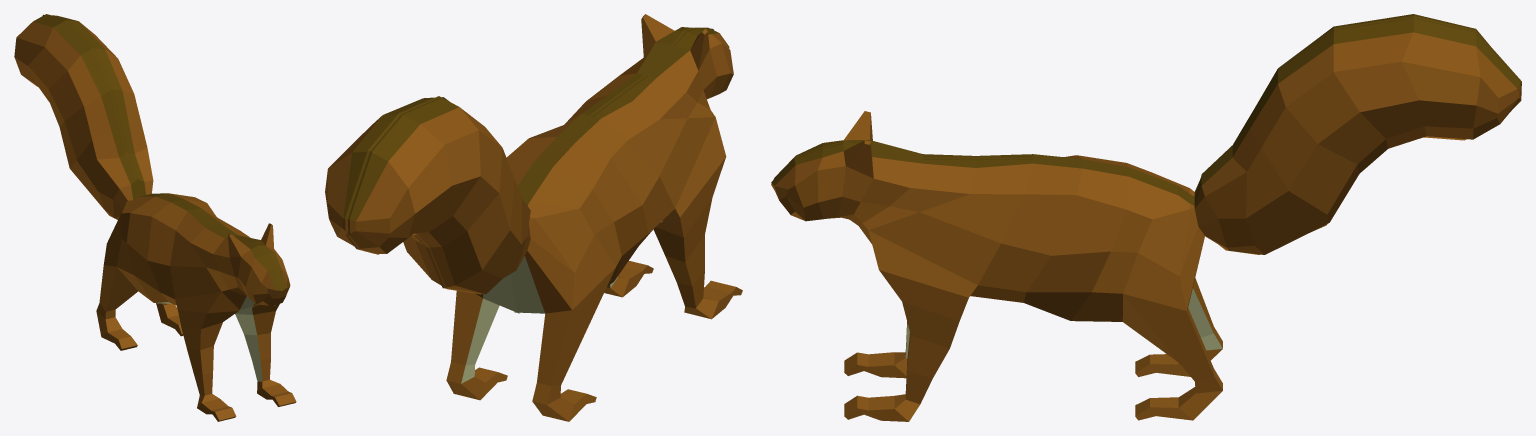
File: squirrel.fbx
The picture shows the model from 3 angles, left to right: view 1: azimuth 30°, elevation 25°; view 2: azimuth 150°, elevation 25°; view 3: azimuth 270°, elevation 25°; orthographic projection. The views are drawn at different scales.
Parts seen in each view (by area): view 1: Plane; view 2: Plane; view 3: Plane.
Boxes of the visible parts, <box> form: Plane: <box>14,14,296,421</box>; Plane: <box>325,14,742,421</box>; Plane: <box>771,14,1521,421</box>.
Size of the model in its own units: 71.36 by 184 by 332.
